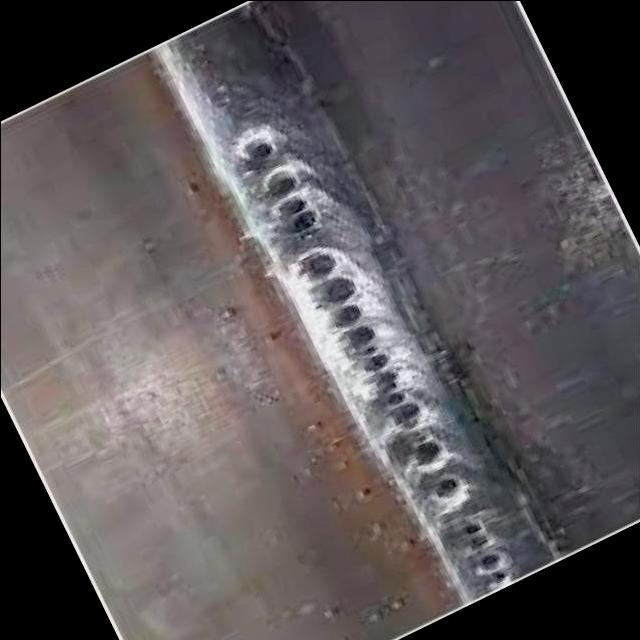defect: (290, 242, 434, 434), (233, 129, 329, 240), (457, 515, 514, 586), (405, 439, 452, 480), (427, 470, 477, 508)
